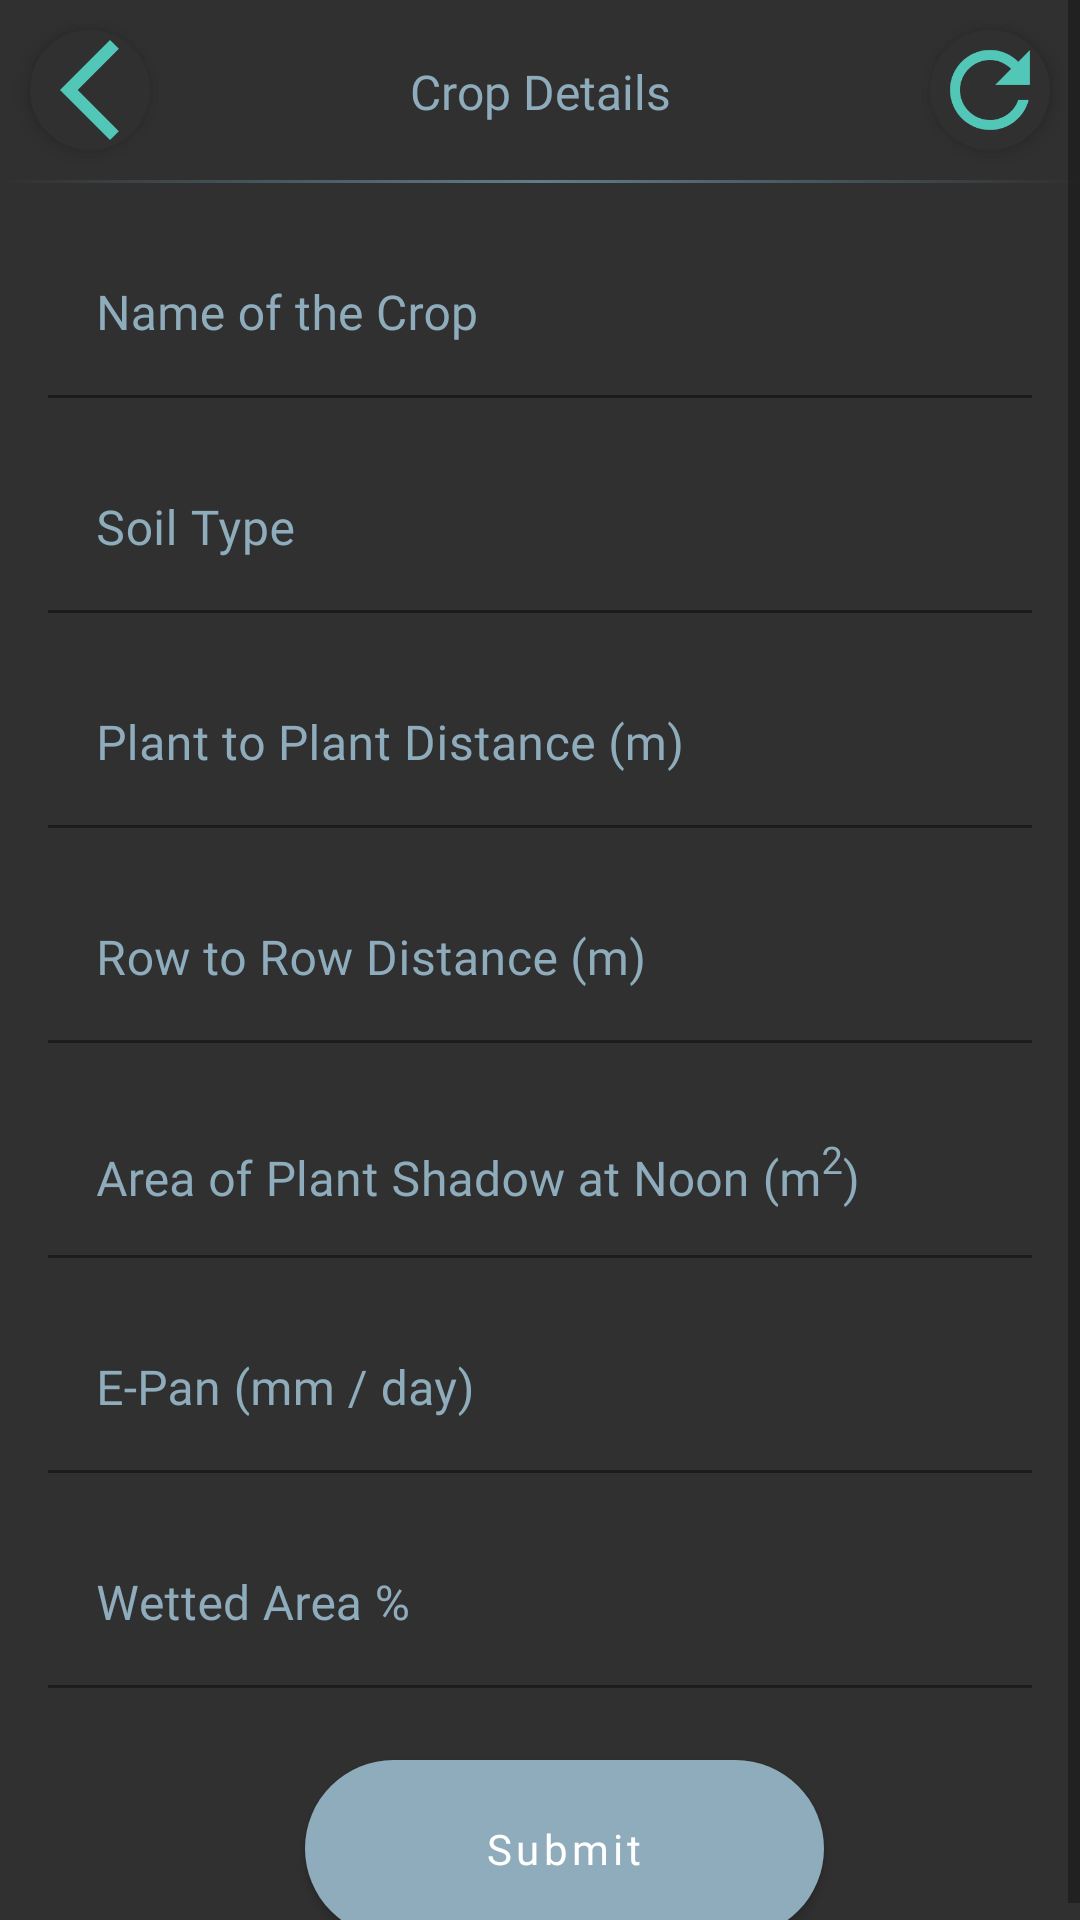

Icon click points for this 1080 x 1920 phone screenshot, format (x,y):
Back: (89,90)
Reset: (990,90)
